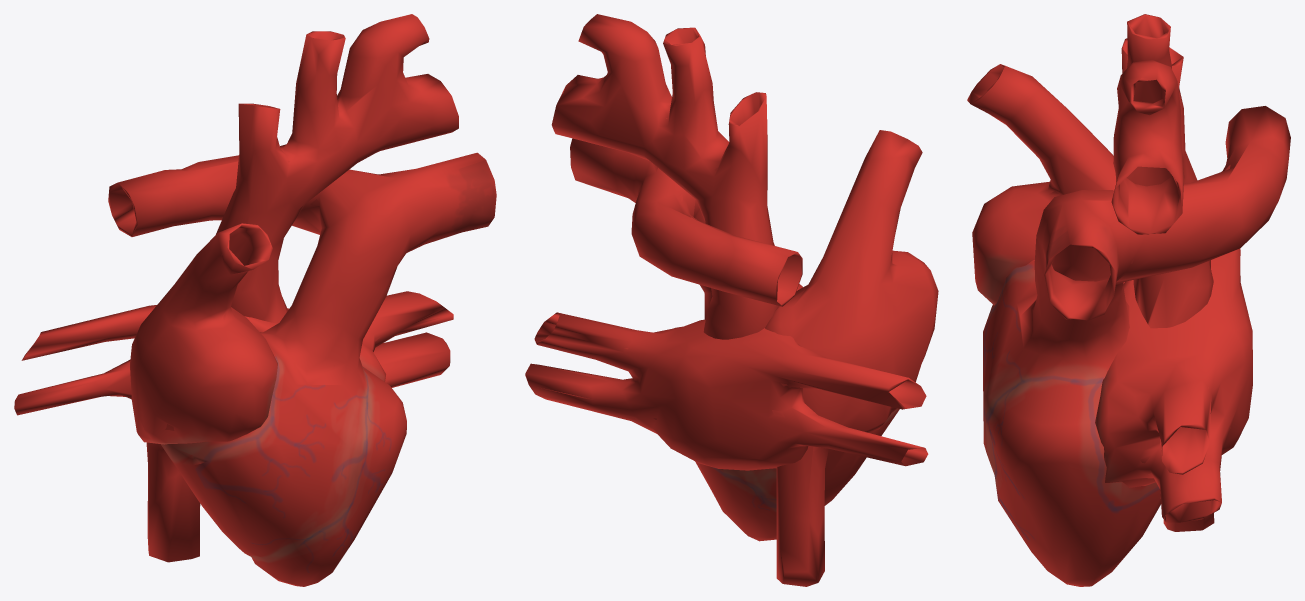
The model's file is UpdatedHeart.fbx.
The picture shows the model from 3 angles, left to right: view 1: azimuth 30°, elevation 25°; view 2: azimuth 150°, elevation 25°; view 3: azimuth 270°, elevation 25°; orthographic projection. The views are drawn at different scales.
Visible parts, largest first — view 1: lp_heart_main; view 2: lp_heart_main; view 3: lp_heart_main.
Boxes of the visible parts, x1,y1,x2,y2 form: lp_heart_main: (14,14,496,586); lp_heart_main: (525,14,938,586); lp_heart_main: (967,14,1290,586).
Size of the model in its own units: 397 by 470 by 234.
1 material, 1 textured.
